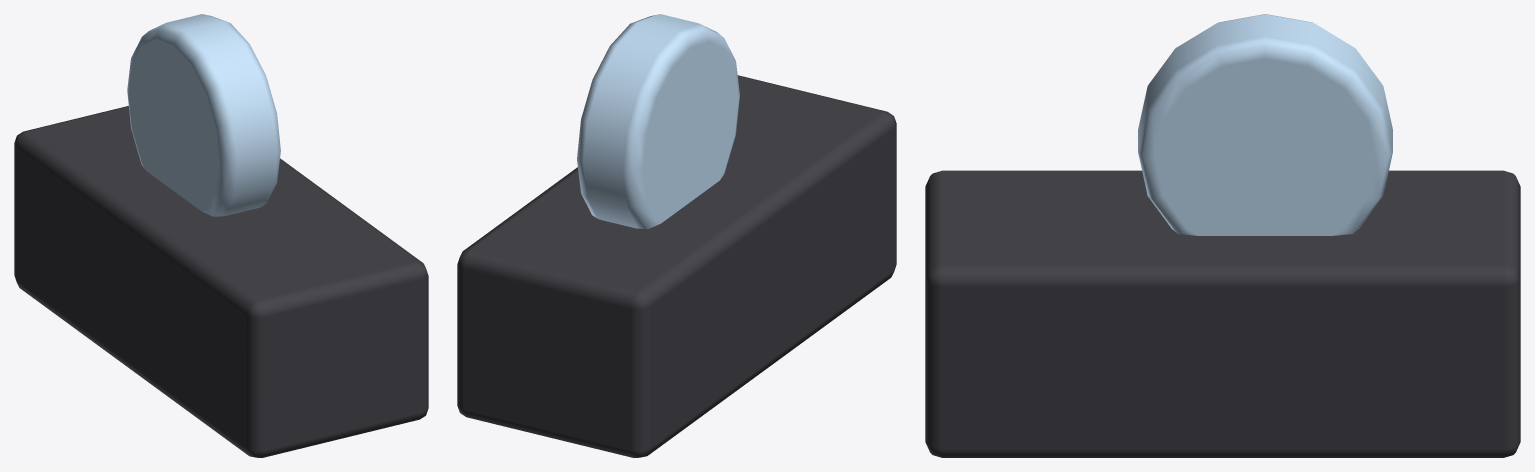
File: SM_TapeDispenser.fbx
The picture shows the model from 3 angles, left to right: view 1: azimuth 30°, elevation 25°; view 2: azimuth 150°, elevation 25°; view 3: azimuth 270°, elevation 25°; orthographic projection. The views are drawn at different scales.
Parts seen in each view (by area): view 1: SM_TapeDispenser; view 2: SM_TapeDispenser; view 3: SM_TapeDispenser.
Part boxes in pixels (x1,y1,x2,y2): SM_TapeDispenser: (14, 14, 428, 457); SM_TapeDispenser: (457, 14, 896, 457); SM_TapeDispenser: (925, 14, 1520, 457).
Size of the model in its own units: 0.06 by 0.1 by 0.14.
